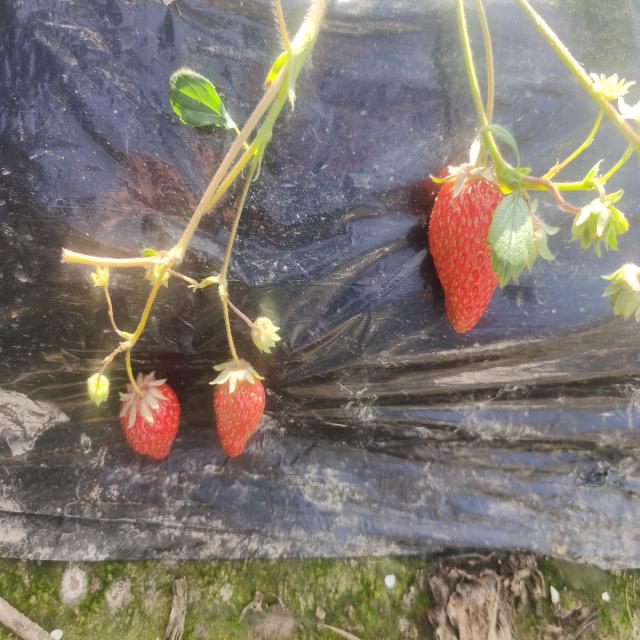stem: (126, 355, 145, 400), (226, 327, 241, 370)
strawberry: (429, 169, 505, 332), (119, 374, 181, 459), (214, 361, 266, 456)
